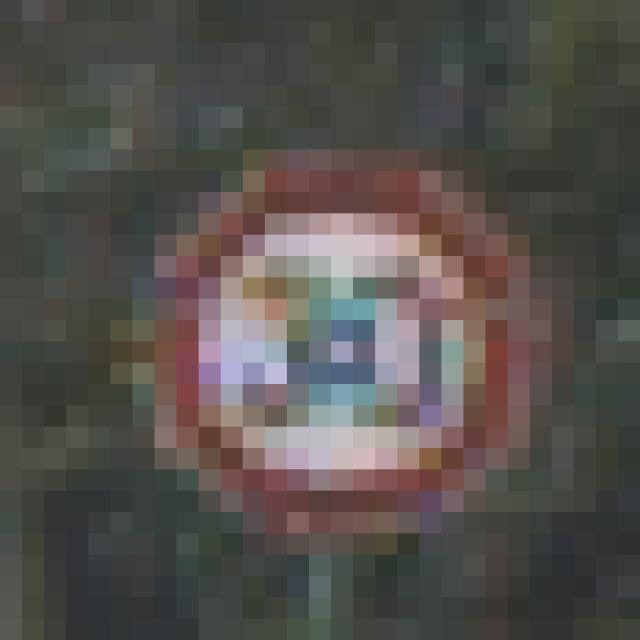Speed Limit -30-: (99, 117, 519, 523)
